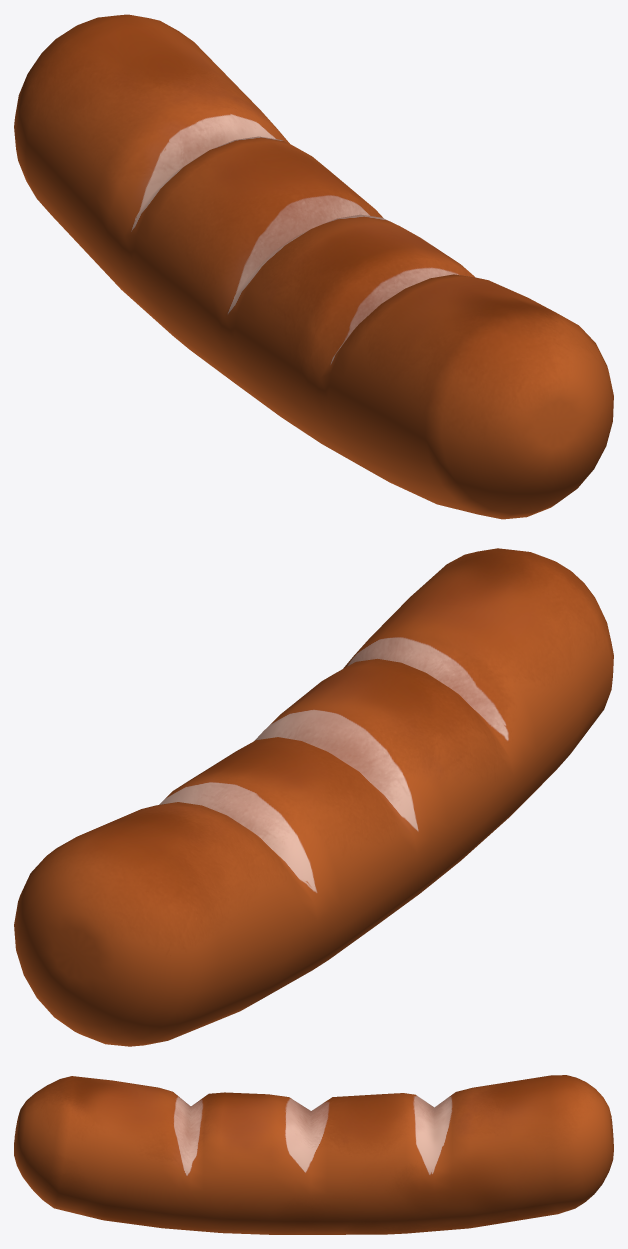
Rendered from Sausage_done_tex.fbx.
3 renders of one model, top to bottom at view 1: azimuth 30°, elevation 25°; view 2: azimuth 150°, elevation 25°; view 3: azimuth 270°, elevation 25°, orthographic. The views are drawn at different scales.
Visible parts, largest first — view 1: pCylinder1; view 2: pCylinder1; view 3: pCylinder1.
Boxes of the visible parts, box(x1,y1,x2,y2) form: pCylinder1: box(14, 14, 613, 519); pCylinder1: box(14, 548, 613, 1046); pCylinder1: box(14, 1075, 613, 1234).
Bounding box in the file's own units: 1.93 × 2.23 × 8.22.
Materials: 1 (1 with a texture image).
